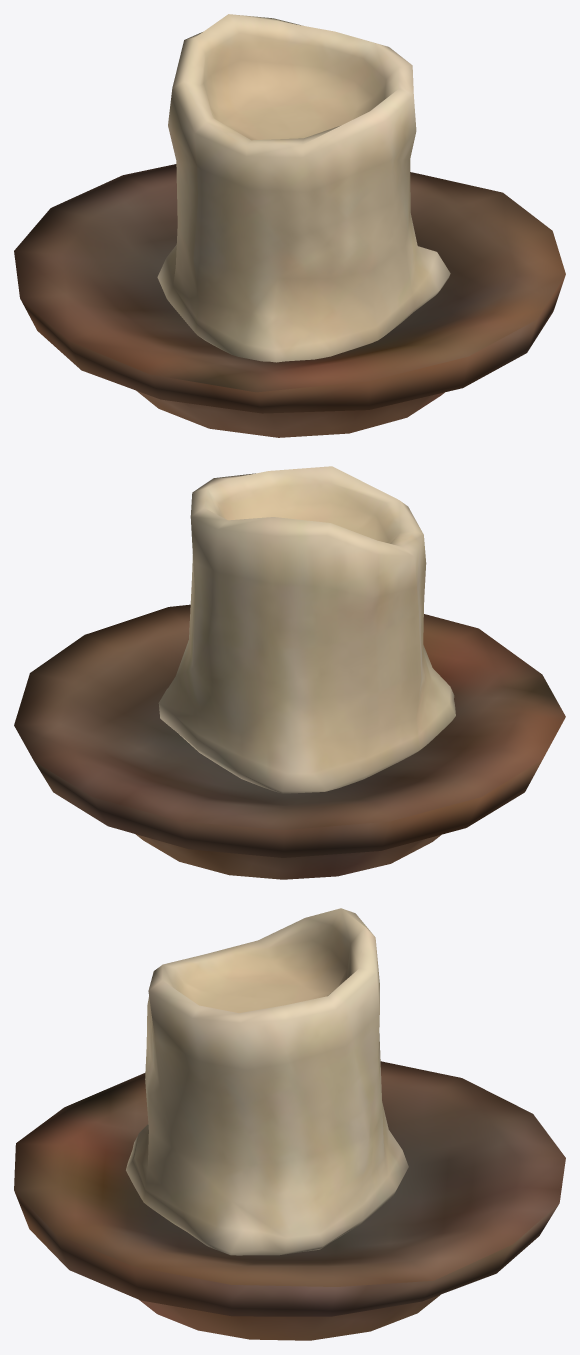
The model's file is comfort_t1_illuminationsmall_candle.glb.
3 renders of one model, top to bottom at view 1: azimuth 30°, elevation 25°; view 2: azimuth 150°, elevation 25°; view 3: azimuth 270°, elevation 25°, orthographic.
Parts seen in each view (by area): view 1: global_props_aztec_plate_candle_01_c_on; view 2: global_props_aztec_plate_candle_01_c_on; view 3: global_props_aztec_plate_candle_01_c_on.
Part boxes in pixels (<box>): global_props_aztec_plate_candle_01_c_on: <box>14,14,565,437</box>; global_props_aztec_plate_candle_01_c_on: <box>14,466,565,879</box>; global_props_aztec_plate_candle_01_c_on: <box>14,908,565,1340</box>.
Bounding box in the file's own units: 0.3561 × 0.2396 × 0.3558.
2 materials, 2 textured.
